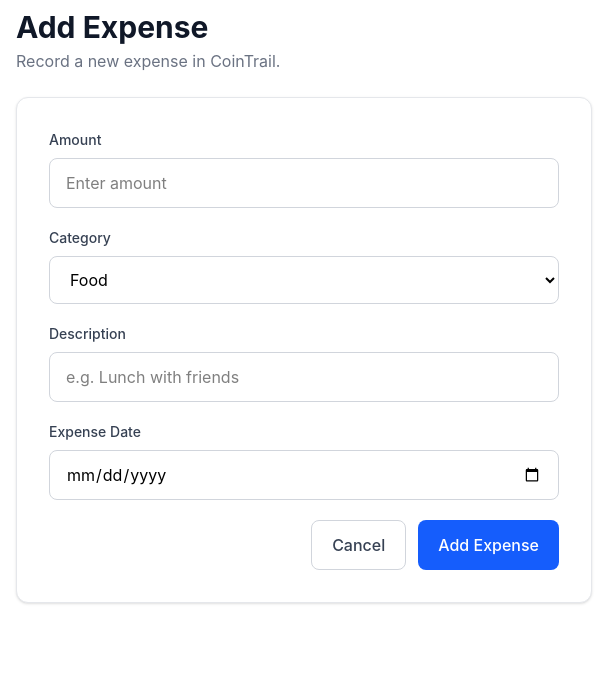
Test case: CreateExpensePage › shows error when expense creation fails
Type "500" into the number field labelled "Amount" at (304, 183), box [49, 158, 559, 208]
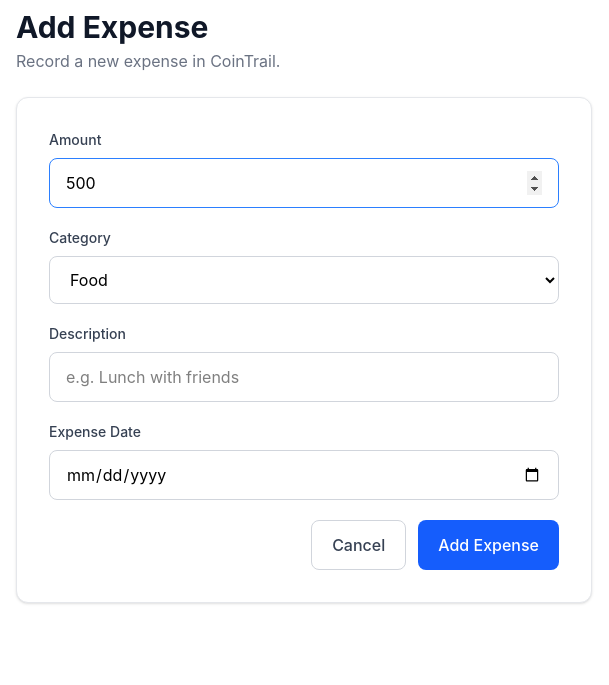
Select "Food" in the dropdown labelled "Category" at (304, 280), box [49, 256, 559, 304]
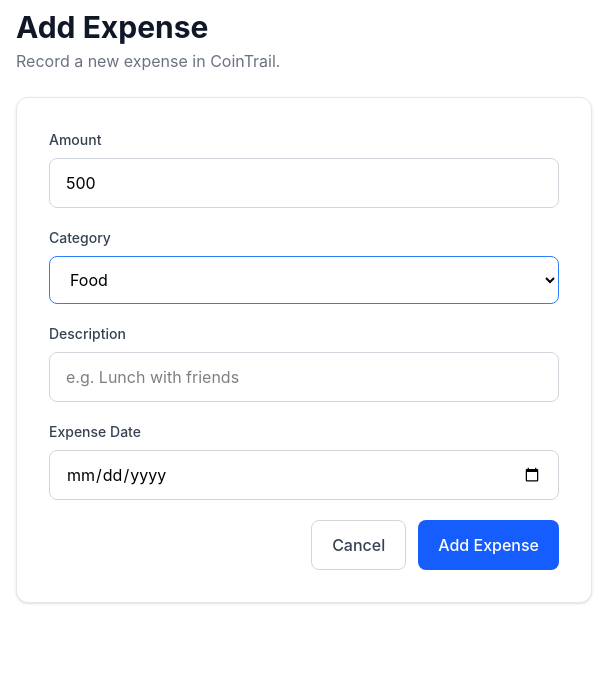
Type "Dinner" into the field labelled "Description" at (304, 377), box [49, 352, 559, 402]
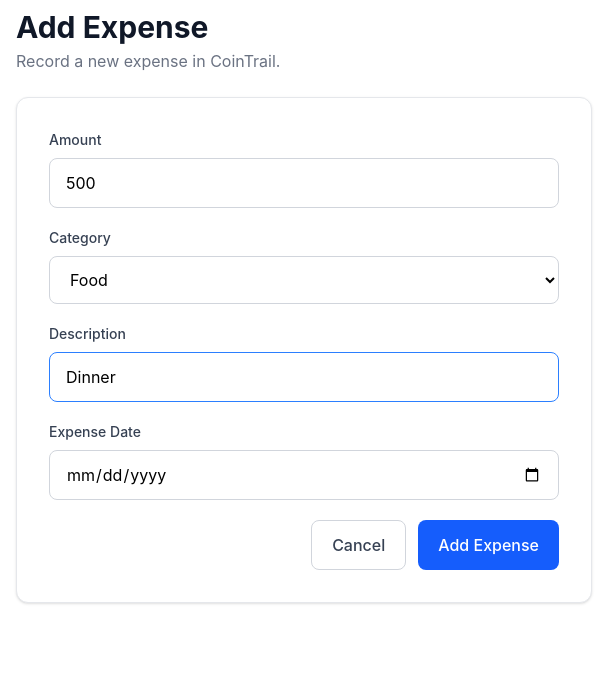
Type "2026-09-16" into the date field labelled "Expense Date" at (304, 475), box [49, 450, 559, 500]
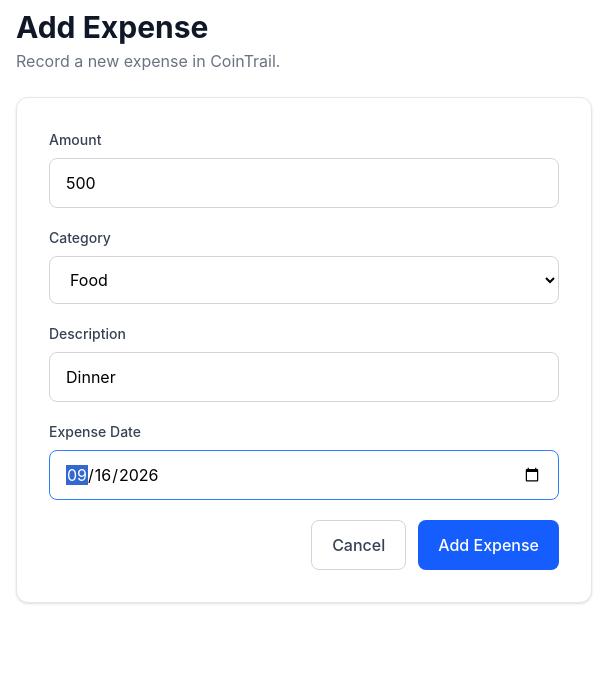
Click the button "Add Expense" at (489, 545), box [418, 520, 559, 570]
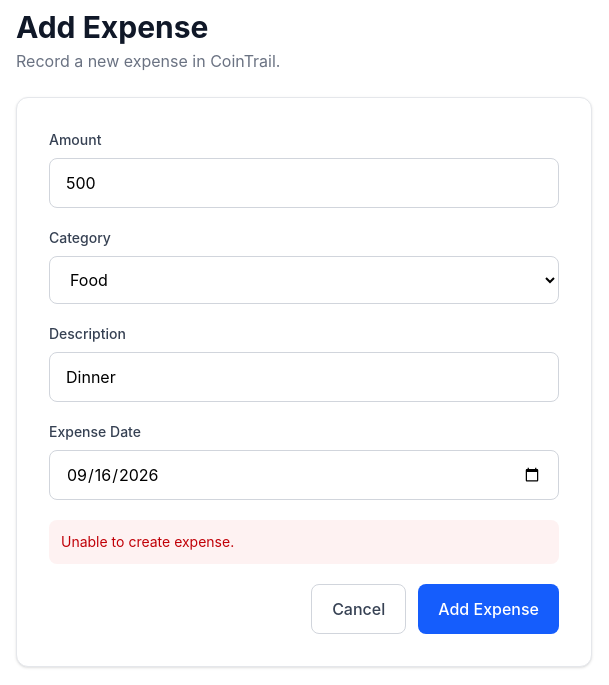
Now the text "Unable to create expense." is shown, box [49, 520, 559, 564]
